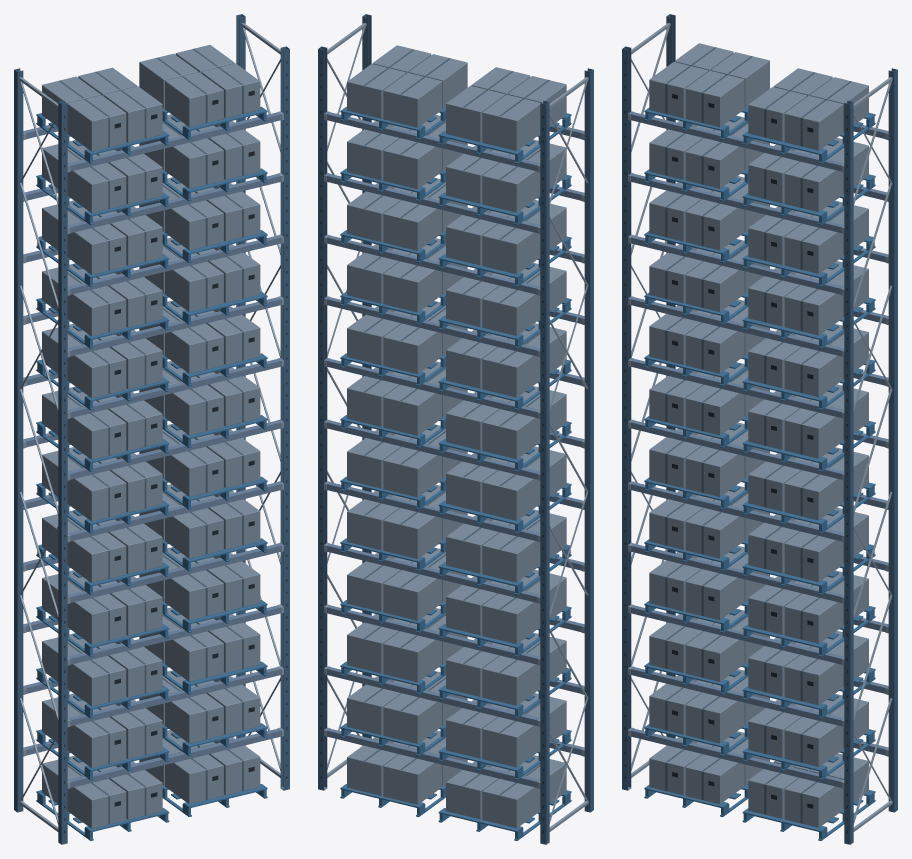
The model's file is SM_GHS_V2Rack_B_W29505.fbx.
3 renders of one model, left to right at view 1: azimuth 30°, elevation 25°; view 2: azimuth 150°, elevation 25°; view 3: azimuth 330°, elevation 25°, orthographic.
Parts seen in each view (by area): view 1: SM_GHS_V2Rack_B_W29505; view 2: SM_GHS_V2Rack_B_W29505; view 3: SM_GHS_V2Rack_B_W29505.
Boxes of the visible parts, x1,y1,x2,y2 form: SM_GHS_V2Rack_B_W29505: (14,14,289,844); SM_GHS_V2Rack_B_W29505: (318,14,593,844); SM_GHS_V2Rack_B_W29505: (622,14,897,844).
Size of the model in its own units: 295 by 122 by 915.
